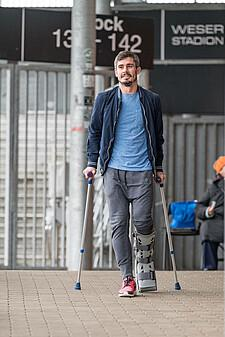crutches: (74, 51, 180, 296)
